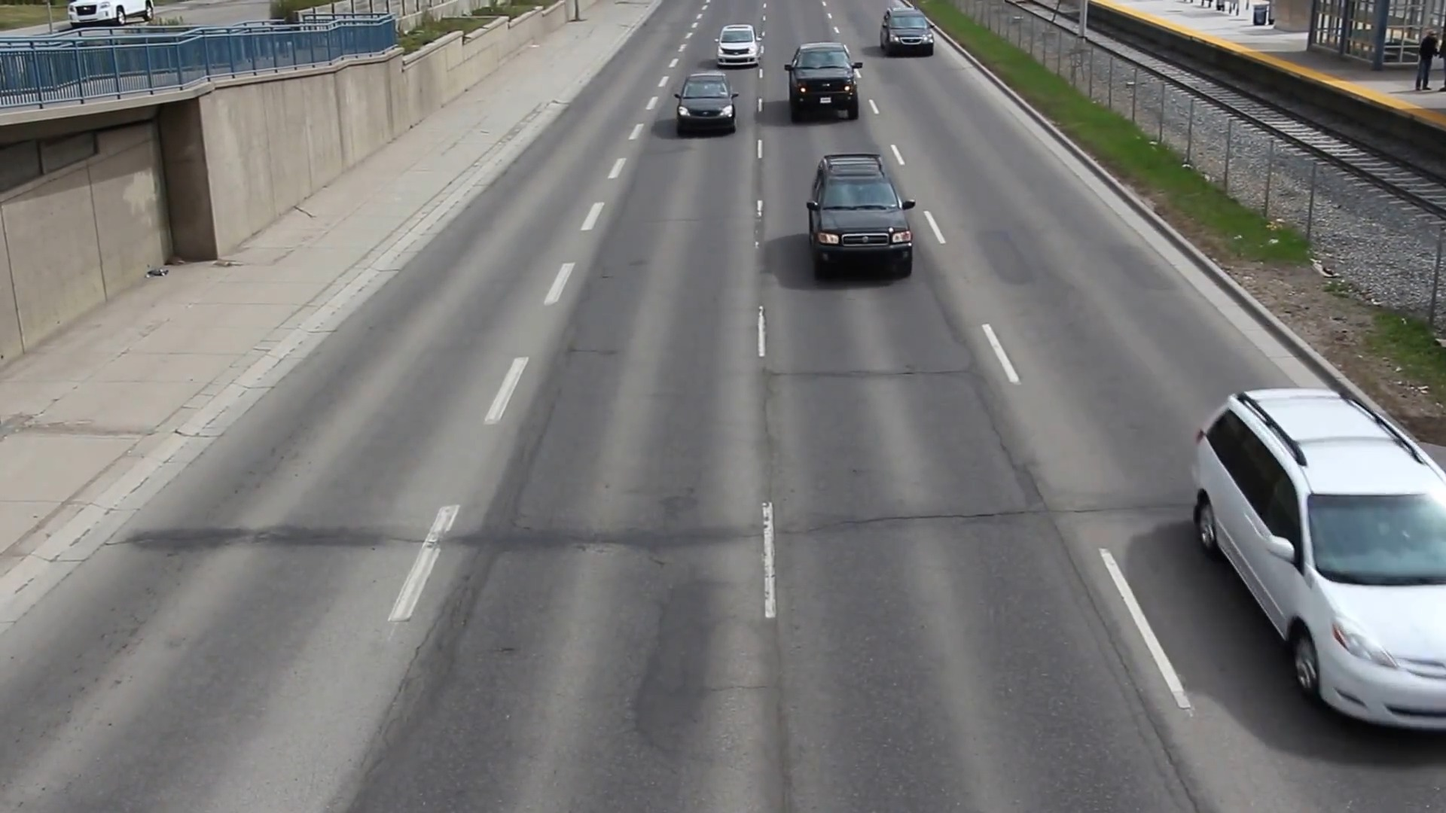car: (808, 149, 914, 276), (784, 46, 862, 122), (674, 72, 737, 133), (880, 10, 935, 57)
